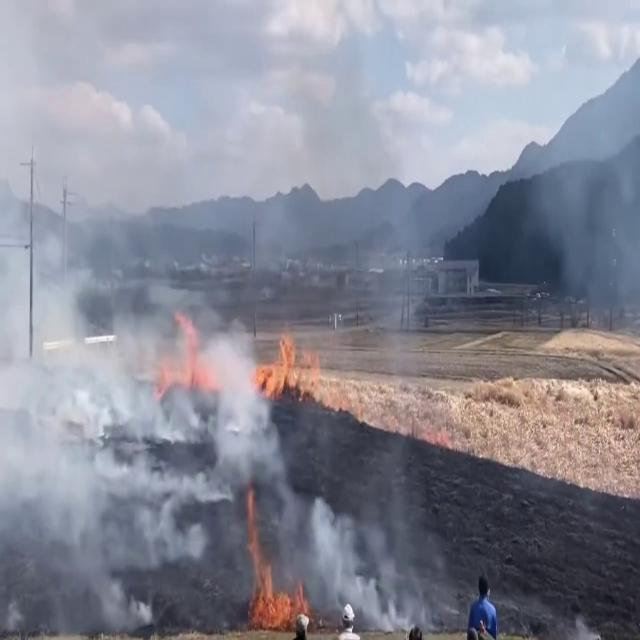Fire: (247, 523, 296, 625), (258, 318, 320, 398)
Smoke: (0, 93, 309, 634)
